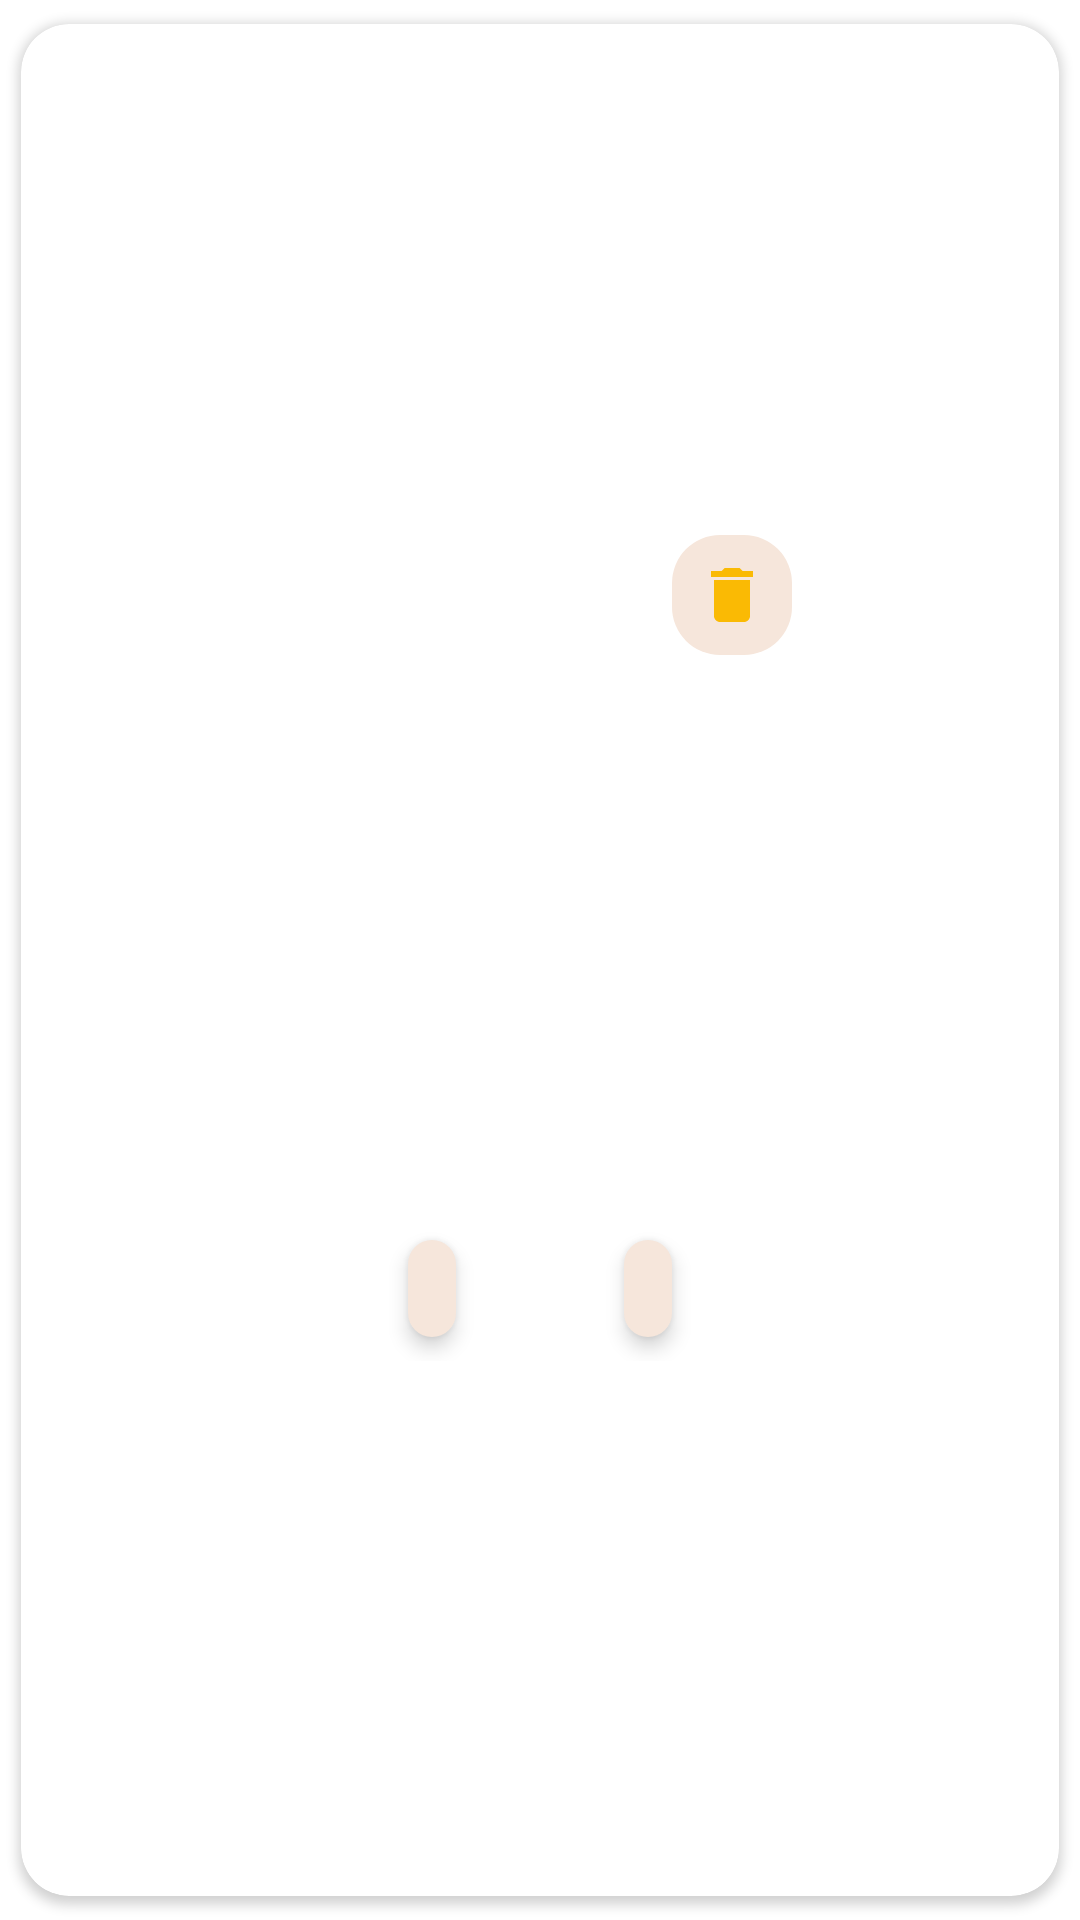

Named icons in this screenshot (1080 × 1920) and their bounding boxes, box(x1, y1, x2, y2):
delete: box(672, 535, 792, 655)
